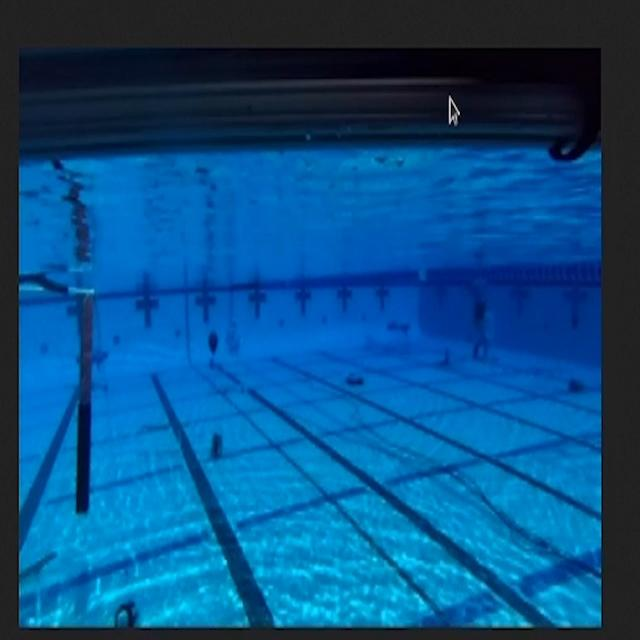Gate: (16, 272, 106, 510)
